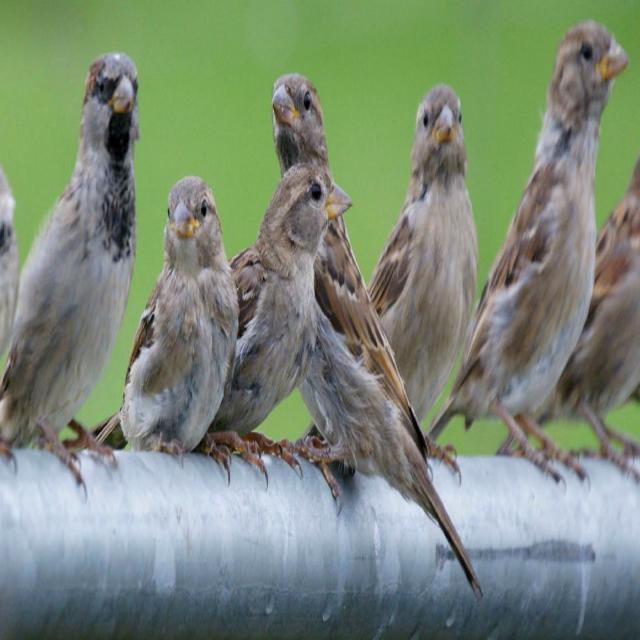sparrow: (430, 21, 629, 481), (1, 52, 140, 489), (201, 163, 351, 470), (118, 176, 238, 480), (369, 84, 477, 420), (539, 155, 640, 482), (271, 74, 332, 179)
